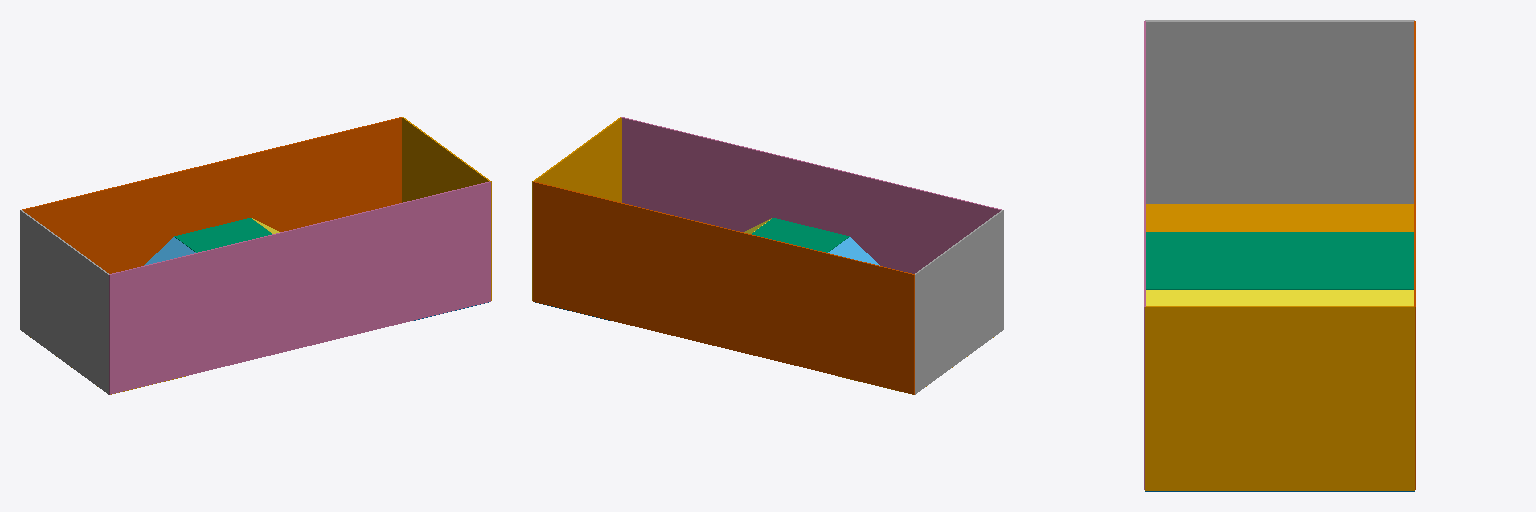
robot.urdf — bottom_wall:
<?xml version='1.0' encoding='UTF-8'?>
<robot name="bottom_wall">

  <!-- 1. FLAT START (X = -10 to 0) -->
  <link name="flat_link">
    <inertial>
      <origin xyz="0 0 0" rpy="0 0 0"/>
      <mass value="1.0"/>
      <inertia ixx="1.0" ixy="0.0" ixz="0.0" iyy="1.0" iyz="0.0" izz="1.0"/>
    </inertial>
    <visual name="flat_visual">
      <geometry><box size="10 20 0.2"/></geometry>
      <origin xyz="-5 0 0" rpy="0 0 0"/>
    </visual>
    <collision name="flat_collision">
      <geometry><box size="10 20 0.2"/></geometry>
      <origin xyz="-5 0 0" rpy="0 0 0"/>
    </collision>
  </link>

  <!-- 2. TILTED RAMP (X = 0 to 10) -->
  <!-- TILT ANGLE = 35 deg = 0.610865 rad (negative pitch = rising toward +X) -->
  <link name="ramp_link">
    <inertial>
      <origin xyz="0 0 0" rpy="0 0 0"/>
      <mass value="1.0"/>
      <inertia ixx="1.0" ixy="0.0" ixz="0.0" iyy="1.0" iyz="0.0" izz="1.0"/>
    </inertial>
    <visual name="ramp_visual">
      <geometry><box size="12.208 20 0.2"/></geometry>
      <origin xyz="5 0 3.501" rpy="0 -0.610865 0"/>
    </visual>
    <collision name="ramp_collision">
      <geometry><box size="12.208 20 0.2"/></geometry>
      <origin xyz="5 0 3.501" rpy="0 -0.610865 0"/>
    </collision>
  </link>

  <!-- 3. FLAT TOP (X = 10 to 20) -->
  <!-- Height = 10 * tan(angle) = 7.002 -->
  <link name="top_link">
    <inertial>
      <origin xyz="0 0 0" rpy="0 0 0"/>
      <mass value="1.0"/>
      <inertia ixx="1.0" ixy="0.0" ixz="0.0" iyy="1.0" iyz="0.0" izz="1.0"/>
    </inertial>
    <visual name="top_visual">
      <geometry><box size="10 20 0.2"/></geometry>
      <origin xyz="15 0 7.002" rpy="0 0 0"/>
    </visual>
    <collision name="top_collision">
      <geometry><box size="10 20 0.2"/></geometry>
      <origin xyz="15 0 7.002" rpy="0 0 0"/>
    </collision>
  </link>

  <!-- 4. TILTED RAMP DOWN (X = 20 to 30) -->
  <!-- TILT ANGLE = 35 deg = 0.610865 rad (positive pitch = descending toward +X) -->
  <link name="ramp_down_link">
    <inertial>
      <origin xyz="0 0 0" rpy="0 0 0"/>
      <mass value="1.0"/>
      <inertia ixx="1.0" ixy="0.0" ixz="0.0" iyy="1.0" iyz="0.0" izz="1.0"/>
    </inertial>
    <visual name="ramp_down_visual">
      <geometry><box size="12.208 20 0.2"/></geometry>
      <origin xyz="25 0 3.501" rpy="0 0.610865 0"/>
    </visual>
    <collision name="ramp_down_collision">
      <geometry><box size="12.208 20 0.2"/></geometry>
      <origin xyz="25 0 3.501" rpy="0 0.610865 0"/>
    </collision>
  </link>

  <!-- 5. FLAT END (X = 30 to 40) -->
  <link name="end_flat_link">
    <inertial>
      <origin xyz="0 0 0" rpy="0 0 0"/>
      <mass value="1.0"/>
      <inertia ixx="1.0" ixy="0.0" ixz="0.0" iyy="1.0" iyz="0.0" izz="1.0"/>
    </inertial>
    <visual name="end_flat_visual">
      <geometry><box size="10 20 0.2"/></geometry>
      <origin xyz="35 0 0" rpy="0 0 0"/>
    </visual>
    <collision name="end_flat_collision">
      <geometry><box size="10 20 0.2"/></geometry>
      <origin xyz="35 0 0" rpy="0 0 0"/>
    </collision>
  </link>

  <!-- 6. LEFT WALL (Y = +10, X = -10 to 40, Z = 0 to 15) -->
  <link name="left_wall_link">
    <inertial>
      <origin xyz="0 0 0" rpy="0 0 0"/>
      <mass value="1.0"/>
      <inertia ixx="1.0" ixy="0.0" ixz="0.0" iyy="1.0" iyz="0.0" izz="1.0"/>
    </inertial>
    <visual name="left_wall_visual">
      <geometry><box size="50 0.2 15"/></geometry>
      <origin xyz="15 10 7.5" rpy="0 0 0"/>
    </visual>
    <collision name="left_wall_collision">
      <geometry><box size="50 0.2 15"/></geometry>
      <origin xyz="15 10 7.5" rpy="0 0 0"/>
    </collision>
  </link>

  <!-- 7. RIGHT WALL (Y = -10, X = -10 to 40, Z = 0 to 15) -->
  <link name="right_wall_link">
    <inertial>
      <origin xyz="0 0 0" rpy="0 0 0"/>
      <mass value="1.0"/>
      <inertia ixx="1.0" ixy="0.0" ixz="0.0" iyy="1.0" iyz="0.0" izz="1.0"/>
    </inertial>
    <visual name="right_wall_visual">
      <geometry><box size="50 0.2 15"/></geometry>
      <origin xyz="15 -10 7.5" rpy="0 0 0"/>
    </visual>
    <collision name="right_wall_collision">
      <geometry><box size="50 0.2 15"/></geometry>
      <origin xyz="15 -10 7.5" rpy="0 0 0"/>
    </collision>
  </link>

  <!-- 8. BACK WALL (X = -10, Y = -10 to 10, Z = 0 to 15) -->
  <link name="back_wall_link">
    <inertial>
      <origin xyz="0 0 0" rpy="0 0 0"/>
      <mass value="1.0"/>
      <inertia ixx="1.0" ixy="0.0" ixz="0.0" iyy="1.0" iyz="0.0" izz="1.0"/>
    </inertial>
    <visual name="back_wall_visual">
      <geometry><box size="0.2 20 15"/></geometry>
      <origin xyz="-10 0 7.5" rpy="0 0 0"/>
    </visual>
    <collision name="back_wall_collision">
      <geometry><box size="0.2 20 15"/></geometry>
      <origin xyz="-10 0 7.5" rpy="0 0 0"/>
    </collision>
  </link>

  <!-- 9. FRONT WALL (X = 40, Y = -10 to 10, Z = 0 to 15) -->
  <link name="front_wall_link">
    <inertial>
      <origin xyz="0 0 0" rpy="0 0 0"/>
      <mass value="1.0"/>
      <inertia ixx="1.0" ixy="0.0" ixz="0.0" iyy="1.0" iyz="0.0" izz="1.0"/>
    </inertial>
    <visual name="front_wall_visual">
      <geometry><box size="0.2 20 15"/></geometry>
      <origin xyz="40 0 7.5" rpy="0 0 0"/>
    </visual>
    <collision name="front_wall_collision">
      <geometry><box size="0.2 20 15"/></geometry>
      <origin xyz="40 0 7.5" rpy="0 0 0"/>
    </collision>
  </link>

  <joint name="base_to_ramp" type="fixed">
    <parent link="flat_link"/>
    <child link="ramp_link"/>
    <origin xyz="0 0 0" rpy="0 0 0"/>
  </joint>

  <joint name="ramp_to_top" type="fixed">
    <parent link="ramp_link"/>
    <child link="top_link"/>
    <origin xyz="0 0 0" rpy="0 0 0"/>
  </joint>

  <joint name="top_to_ramp_down" type="fixed">
    <parent link="top_link"/>
    <child link="ramp_down_link"/>
    <origin xyz="0 0 0" rpy="0 0 0"/>
  </joint>

  <joint name="ramp_down_to_end" type="fixed">
    <parent link="ramp_down_link"/>
    <child link="end_flat_link"/>
    <origin xyz="0 0 0" rpy="0 0 0"/>
  </joint>

  <joint name="base_to_left_wall" type="fixed">
    <parent link="flat_link"/>
    <child link="left_wall_link"/>
    <origin xyz="0 0 0" rpy="0 0 0"/>
  </joint>

  <joint name="base_to_right_wall" type="fixed">
    <parent link="flat_link"/>
    <child link="right_wall_link"/>
    <origin xyz="0 0 0" rpy="0 0 0"/>
  </joint>

  <joint name="base_to_back_wall" type="fixed">
    <parent link="flat_link"/>
    <child link="back_wall_link"/>
    <origin xyz="0 0 0" rpy="0 0 0"/>
  </joint>

  <joint name="base_to_front_wall" type="fixed">
    <parent link="flat_link"/>
    <child link="front_wall_link"/>
    <origin xyz="0 0 0" rpy="0 0 0"/>
  </joint>

</robot>

--- Render facts (derived) ---
Views: 3 orthographic renders of the robot side by side, from view 1: azimuth 30°, elevation 25°; view 2: azimuth 150°, elevation 25°; view 3: azimuth 270°, elevation 25°.
Robot: bottom_wall — 9 links, 8 joints (8 fixed); root link flat_link; default pose: all joints at 0.
Visible links, largest first — view 1: right_wall_link, left_wall_link, back_wall_link, front_wall_link, top_link, ramp_link; view 2: left_wall_link, right_wall_link, back_wall_link, front_wall_link, top_link, ramp_link; view 3: front_wall_link, back_wall_link, top_link, flat_link, ramp_down_link, left_wall_link, right_wall_link.
Boxes of the visible links, x1,y1,x2,y2 form: right_wall_link: (109, 181, 490, 394); left_wall_link: (22, 117, 401, 273); back_wall_link: (20, 210, 108, 394); front_wall_link: (402, 117, 491, 300); top_link: (174, 218, 271, 252); ramp_link: (144, 237, 195, 265); left_wall_link: (533, 181, 914, 394); right_wall_link: (621, 117, 1001, 273); back_wall_link: (915, 210, 1003, 394); front_wall_link: (532, 117, 621, 300); top_link: (752, 218, 849, 252); ramp_link: (828, 237, 879, 265); front_wall_link: (1145, 306, 1414, 490); back_wall_link: (1145, 20, 1414, 203); top_link: (1146, 232, 1413, 289); flat_link: (1146, 204, 1413, 231); ramp_down_link: (1146, 290, 1413, 305); left_wall_link: (1414, 21, 1415, 489); right_wall_link: (1144, 21, 1145, 489).
Size in the robot's own frame: 50.2 by 20.2 by 15.1 metres.
Geometry: primitives only (box / cylinder / sphere), no mesh files.
